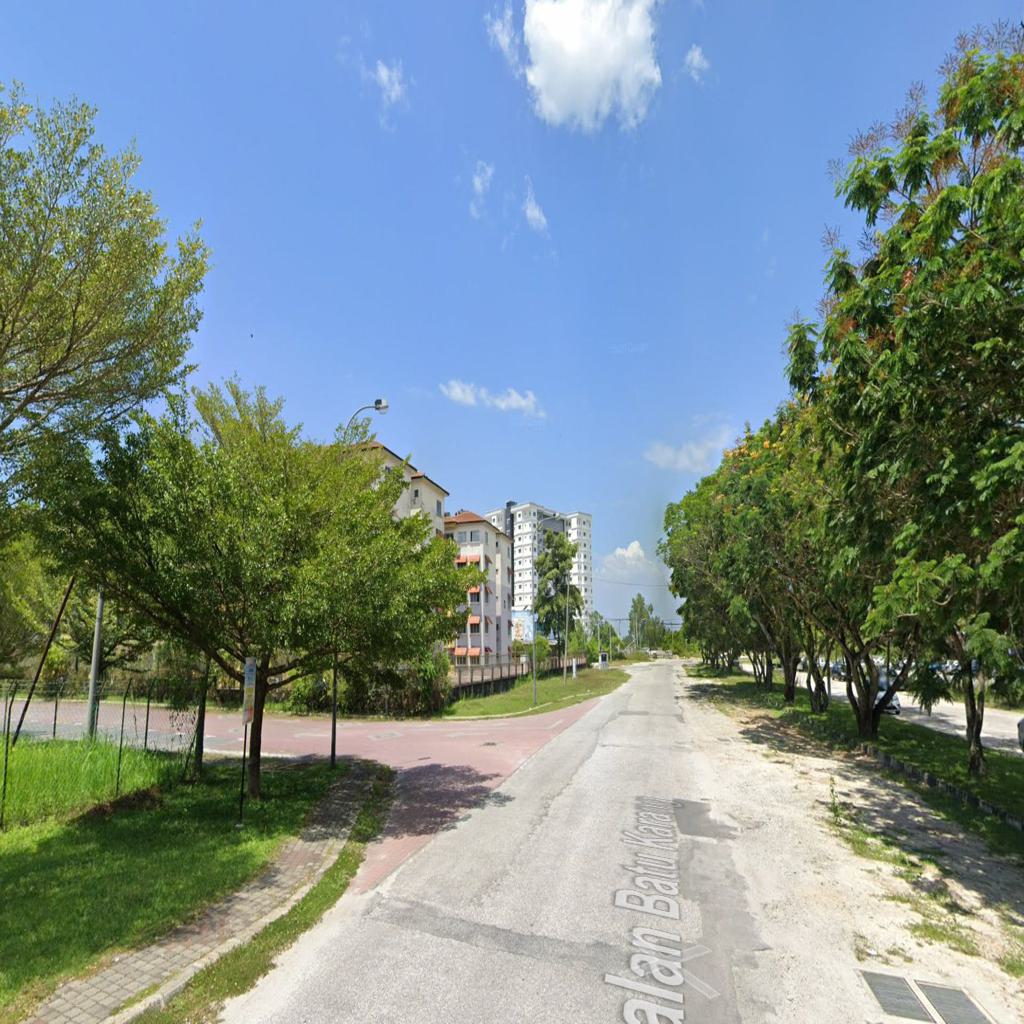Junction: (268, 691, 571, 863)
